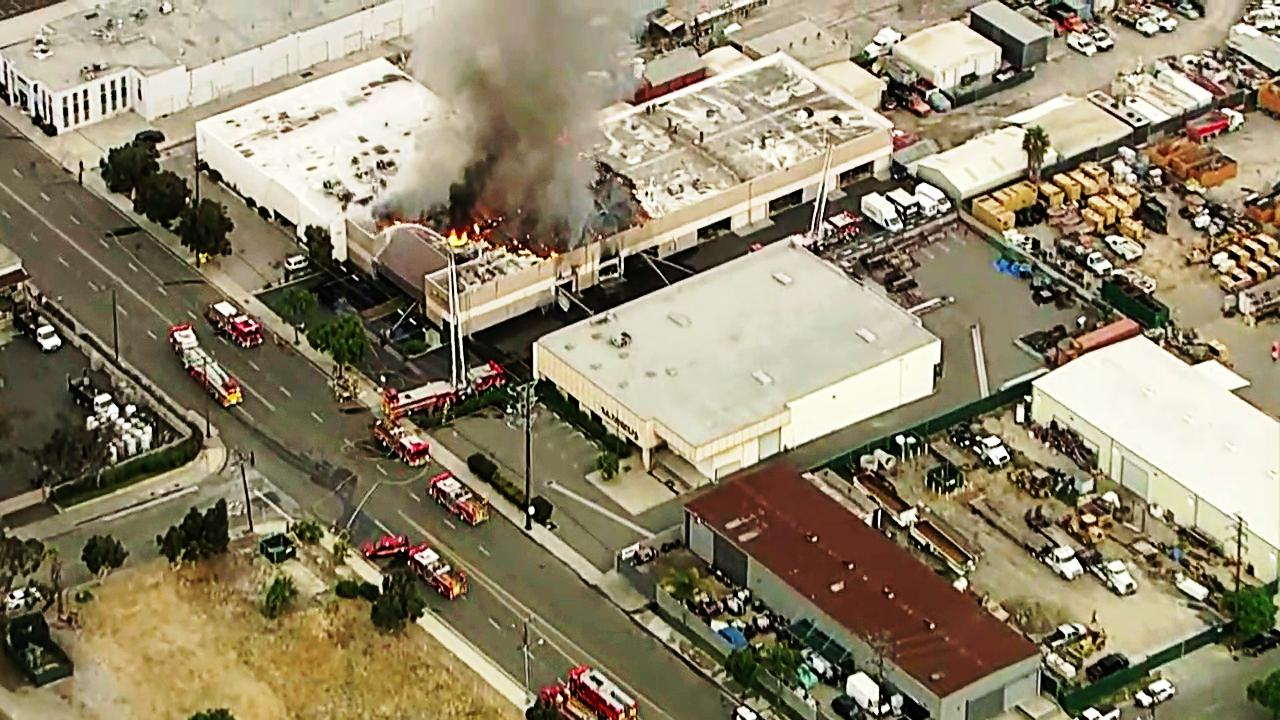smoke: (472, 7, 594, 195)
